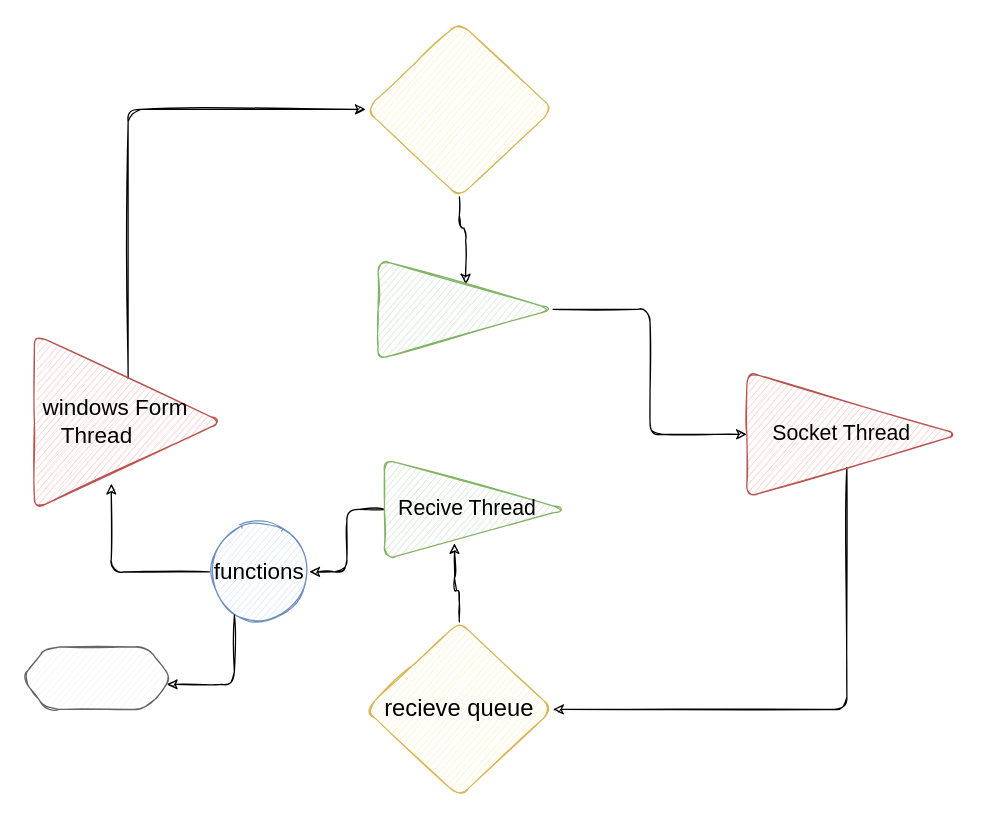
Some shapes in this 981 by 819 pixel diagram are drawn without their labels. Each missing label, with the centre of its shape:
"send queue" goes at [458,109].
"Send Thread" goes at [465,308].
"side effects" goes at [96,677].
